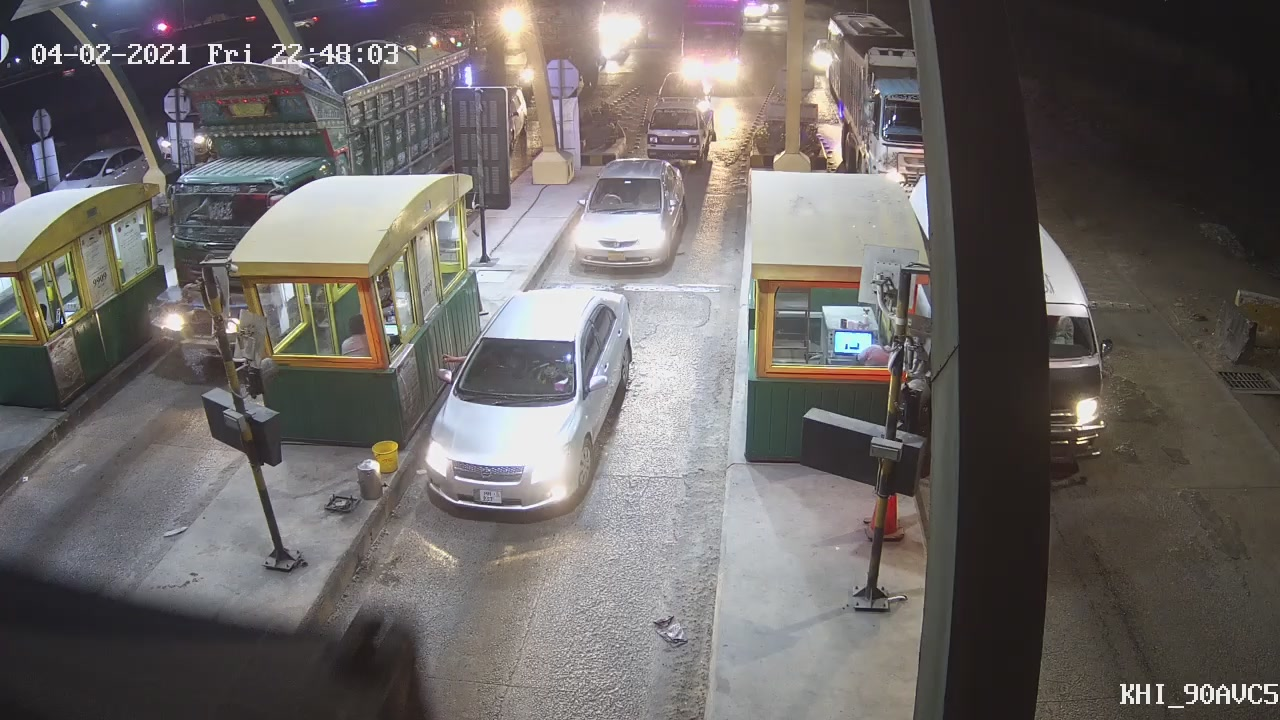F1: (430, 285, 638, 519), (571, 155, 689, 271)
